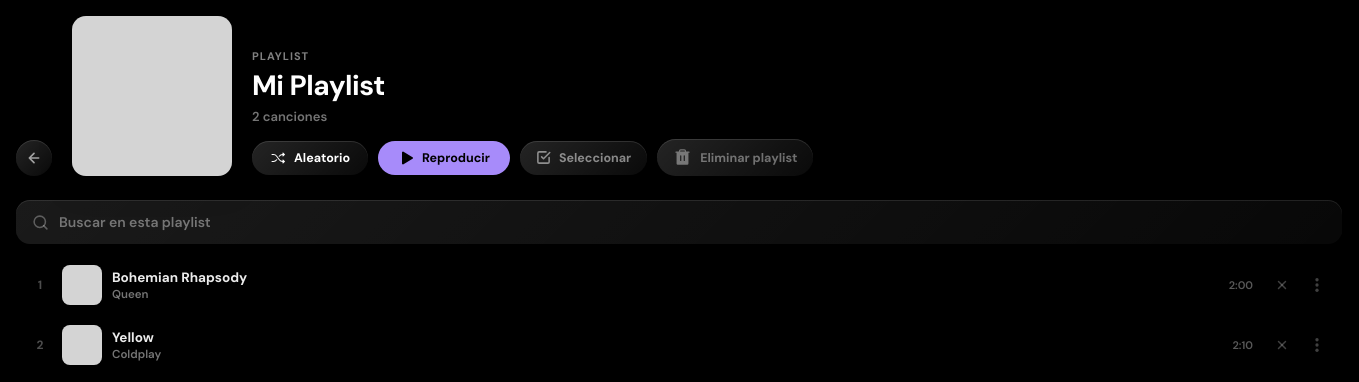
Test case: PlaylistView — buscador local › muestra aviso sin resultados y la X restaura la lista
Expected: the text "Yellow" is shown, [112,328,154,346]
Type "zzz" into the field with placeholder "Buscar en esta playlist" at x=692, y=222, box [59,200,1326,244]
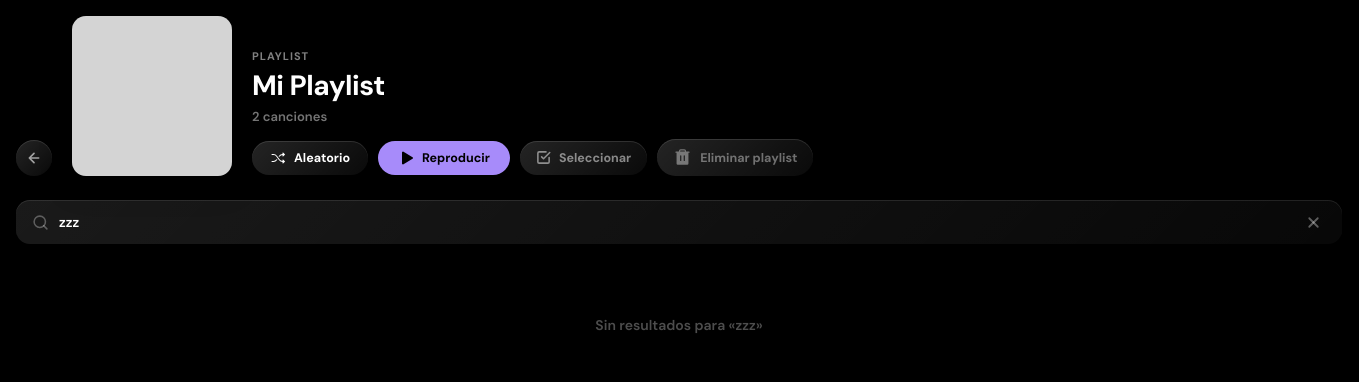
Expected: the text "Sin resultados para «zzz»" is shown, [595,316,763,334]
Expected: the text "Yellow" is gone
Click the 6th button at x=1314, y=222, box [1301,210,1326,234]
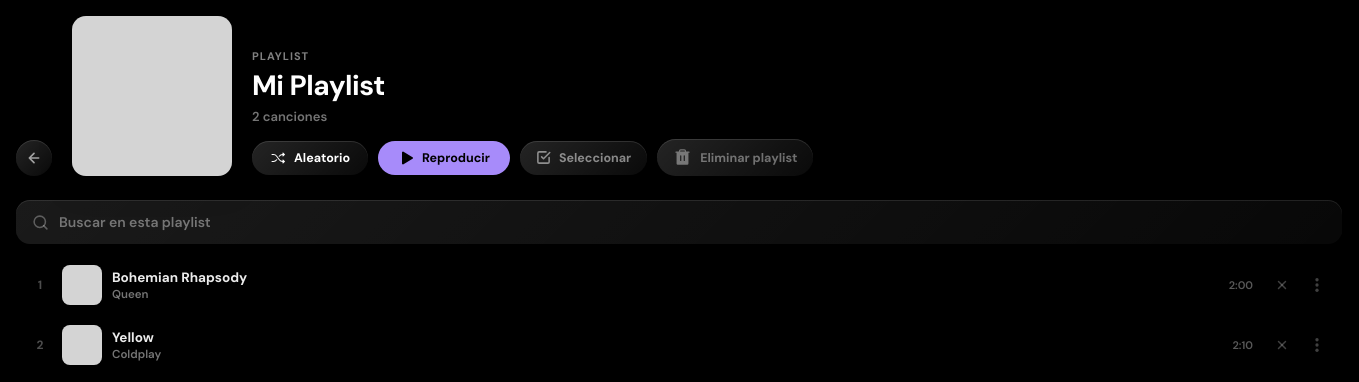
Expected: the text "Bohemian Rhapsody" is shown, [112,268,247,286]
